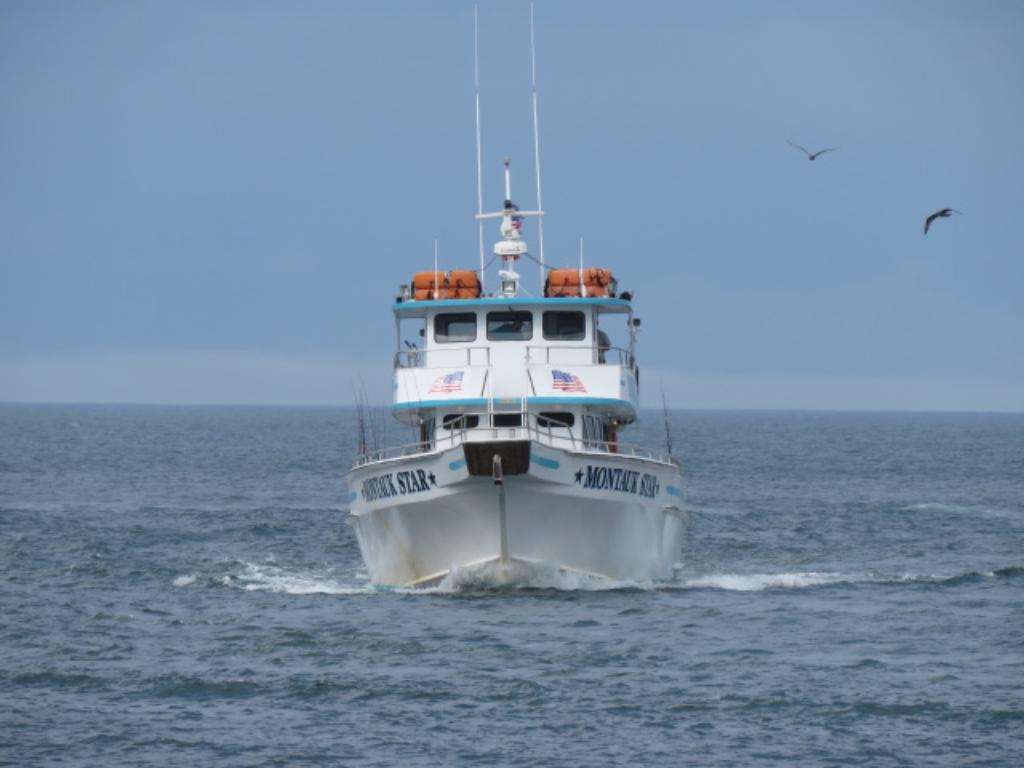PassengerShip: (330, 167, 698, 604)
